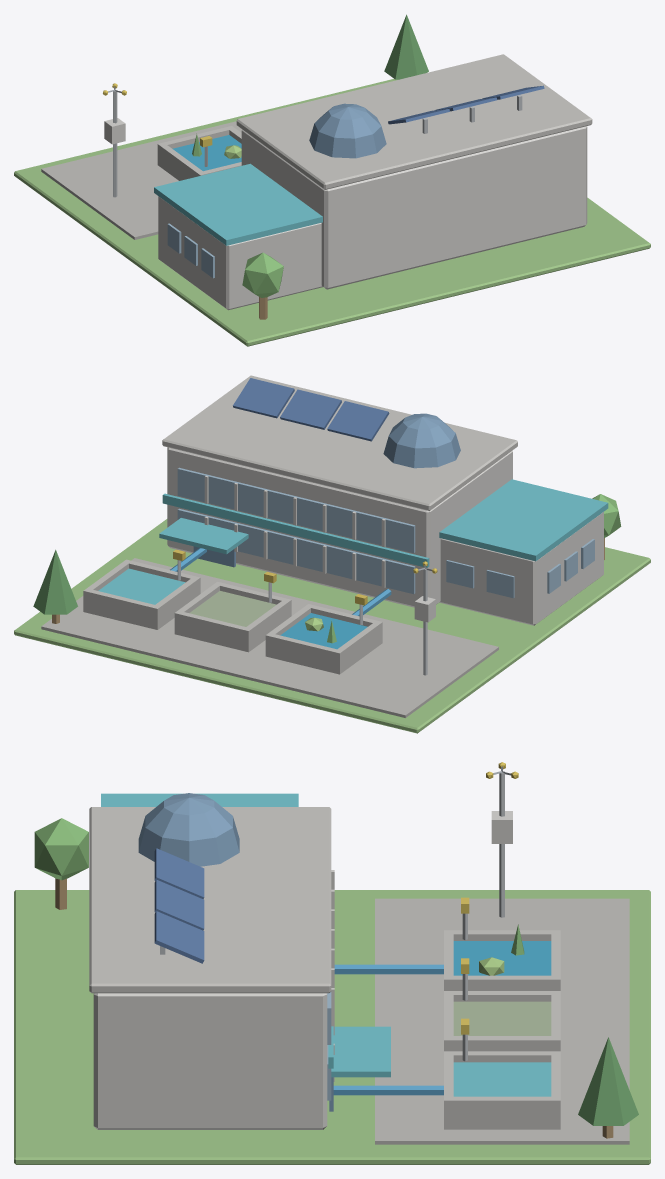
Rendered from agua__centro_pesquisa_agua.glb.
3 views of the same model, one above another, from view 1: azimuth 30°, elevation 25°; view 2: azimuth 150°, elevation 25°; view 3: azimuth 270°, elevation 25° (orthographic). The views are drawn at different scales.
Visible parts, largest first — view 1: agua__centro_pesquisa_agua; view 2: agua__centro_pesquisa_agua; view 3: agua__centro_pesquisa_agua.
Part boxes in pixels (x1=…): agua__centro_pesquisa_agua: x1=14, y1=14, x2=650, y2=346; agua__centro_pesquisa_agua: x1=14, y1=375, x2=650, y2=733; agua__centro_pesquisa_agua: x1=14, y1=762, x2=650, y2=1164.
Bounding box in the file's own units: 6 × 2.17 × 6.
